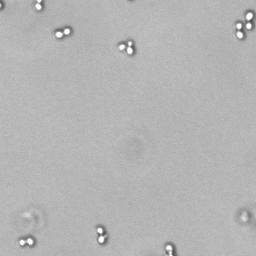budding: (114, 35, 137, 57), (51, 22, 74, 44), (14, 231, 37, 253), (90, 223, 113, 245), (233, 18, 245, 40), (244, 9, 256, 31), (32, 1, 44, 14)
